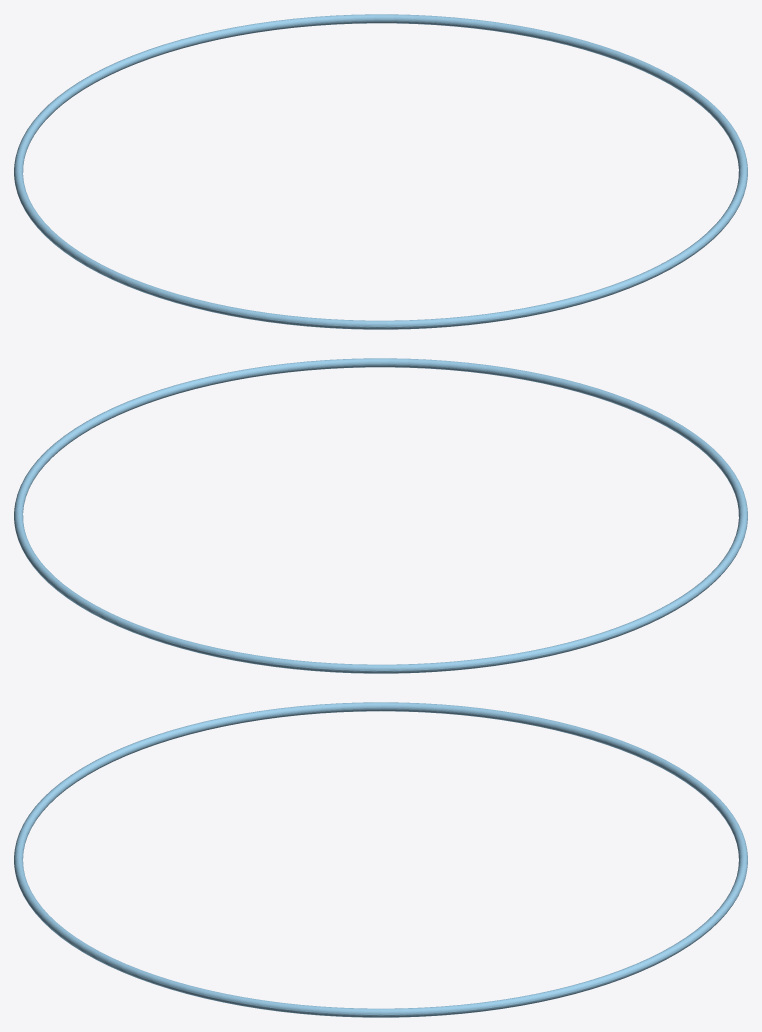
File: Ring.dae
3 views of the same model, one above another, from view 1: azimuth 30°, elevation 25°; view 2: azimuth 150°, elevation 25°; view 3: azimuth 270°, elevation 25° (orthographic).
Visible parts, largest first — view 1: ID2; view 2: ID2; view 3: ID2.
Part boxes in pixels (<box>): ID2: <box>14,14,747,329</box>; ID2: <box>14,358,747,673</box>; ID2: <box>14,702,747,1017</box>.
Bounding box in the file's own units: 0.1029 × 0.1029 × 0.00127.
